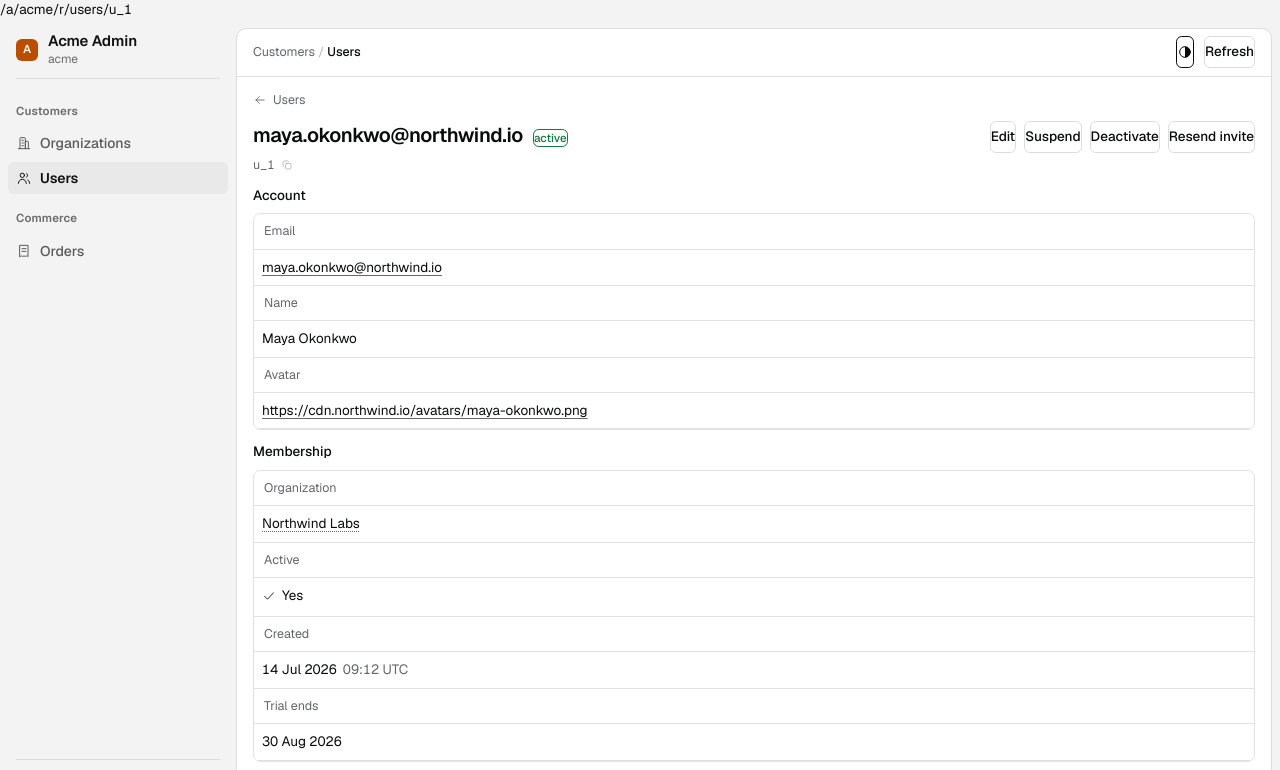
Test: the record page › actions › asks with the definition's own confirm text
Expected: the heading "maya.okonkwo@northwind.io" is shown, 253,121 -> 523,150
Click the button "Suspend" at [1053, 137], box 1024,121 -> 1082,153
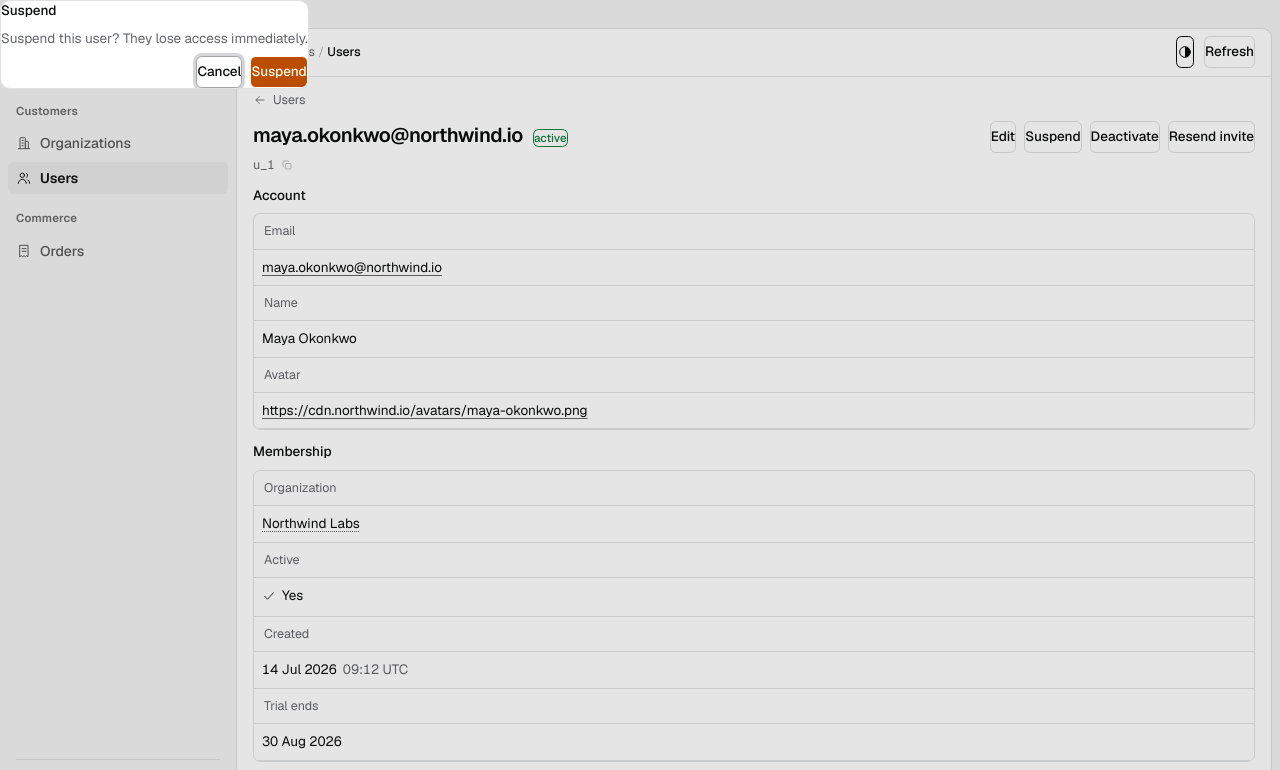
Expected: the dialog "Suspend" is shown, 0,0 -> 309,89
Expected: the text "Suspend this user? They lose access immediately." is shown, 1,29 -> 308,48
